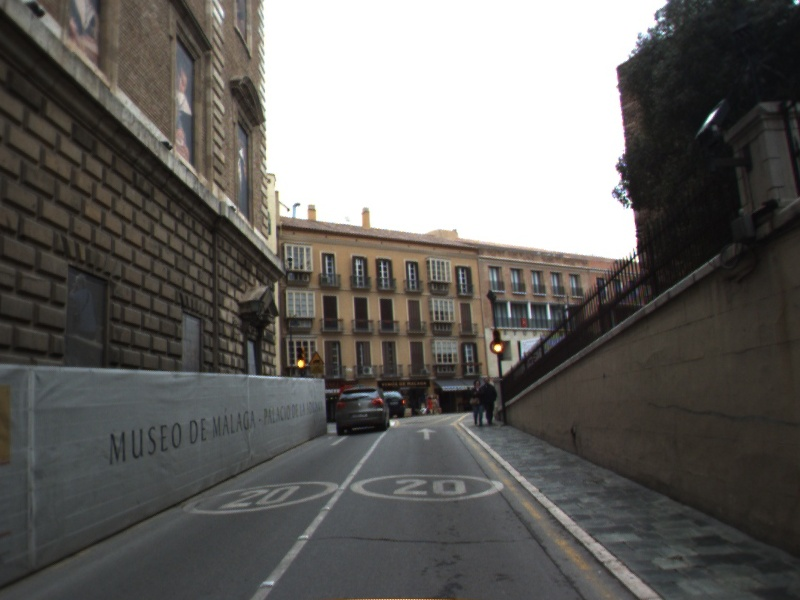STRAIGHT: (414, 426, 439, 441)
